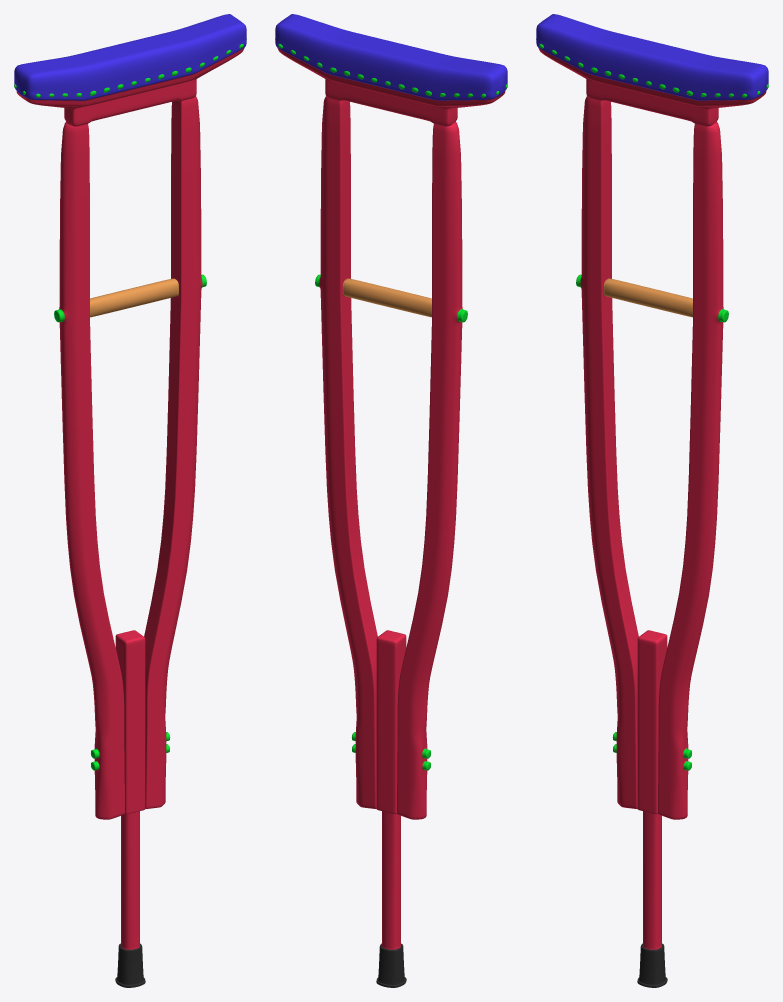
The model's file is mdl_crutch.fbx.
3 views of the same model, side by side, from view 1: azimuth 30°, elevation 25°; view 2: azimuth 150°, elevation 25°; view 3: azimuth 330°, elevation 25° (orthographic).
Visible parts, largest first — view 1: Cube.006; view 2: Cube.006; view 3: Cube.006.
Boxes of the visible parts, box(x1,y1,x2,y2) form: Cube.006: box(14, 14, 246, 987); Cube.006: box(275, 14, 507, 987); Cube.006: box(536, 14, 768, 987).
Size of the model in its own units: 0.1956 by 0.7848 by 0.0334.
